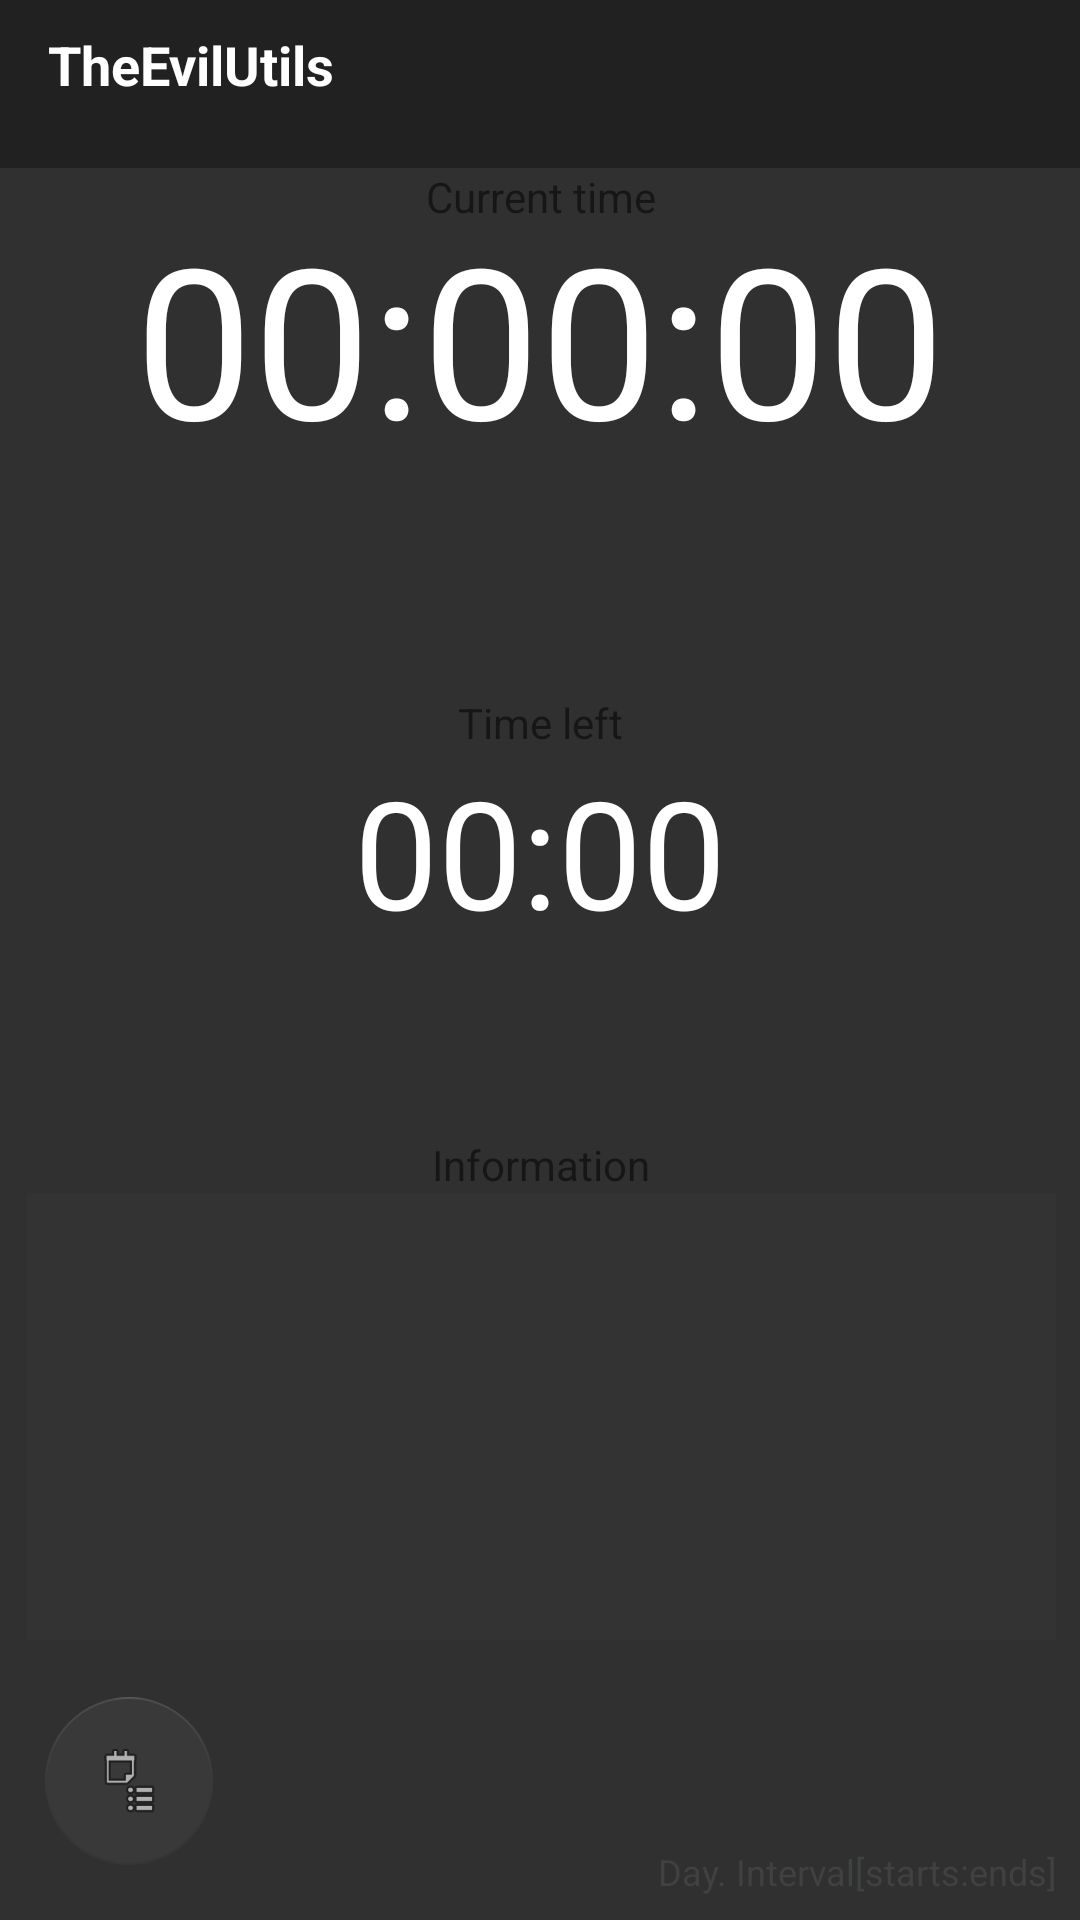

Icon bounding boxes for this 1080×1920 phone screenshot, format (x1,y1,x2,y2):
agenda: (45,1697,213,1863)
